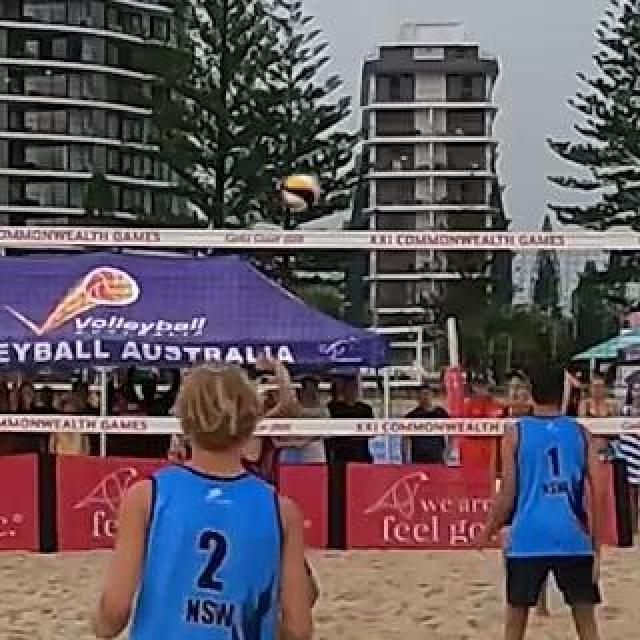volleyball: (279, 176, 317, 212)
